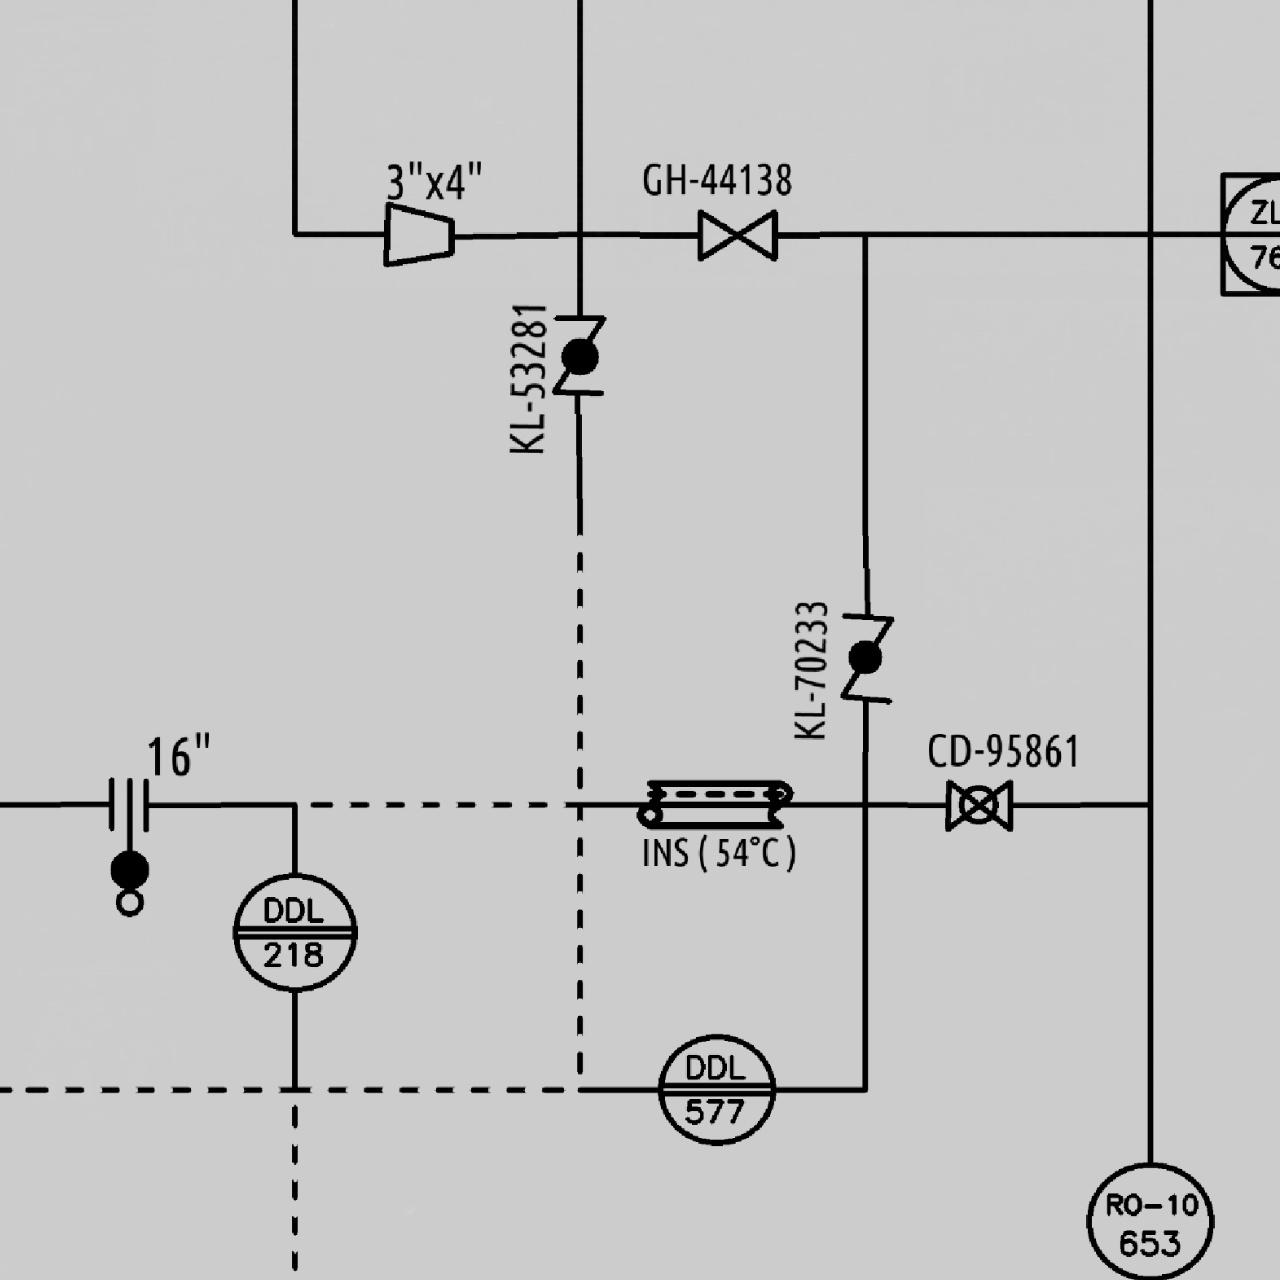Control-Panel: (224, 865, 356, 998), (652, 1026, 779, 1151)
